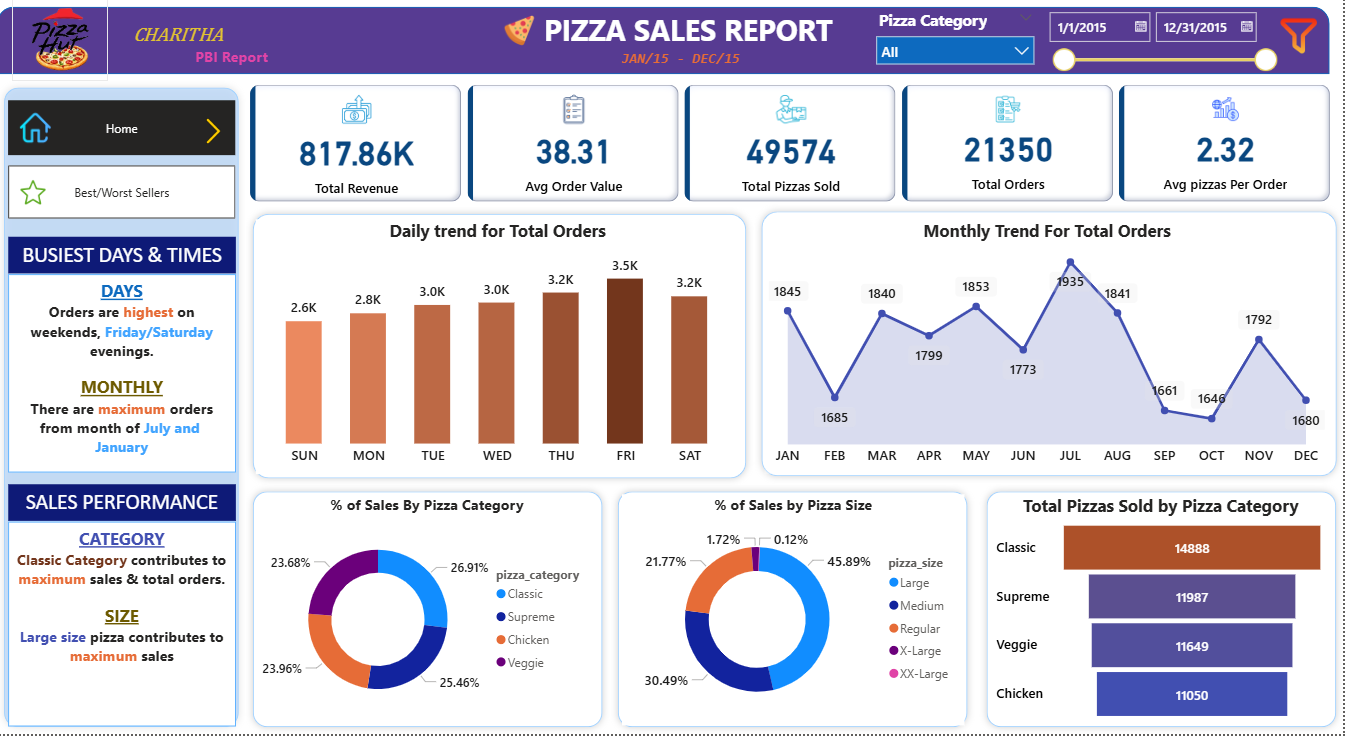

The dashboard page shown, as its layout file describes it:
{"tool":"powerbi","page":{"name":"Home","canvas":[1500,820],"ordinal":0},"visuals":[{"type":"shape","box":[0,91.9,277.1,728.4],"z":0},{"type":"cardVisual","fields":{"Data":["pizza_sales.Total Revenue","pizza_sales.Avg Order Value","pizza_sales.Total Pizzas Sold","pizza_sales.Total Orders","pizza_sales.Avg pizzas Per Order"]},"box":[277.1,91.9,1217.2,140.7],"z":1000},{"type":"shape","box":[0,9.7,1484.6,75.2],"z":2000},{"type":"textbox","box":[604.4,8.4,384.4,59.9],"z":3000},{"type":"textbox","box":[690.8,52.9,153.2,32],"z":4000},{"type":"image","box":[559.9,12.5,44.6,47.4],"z":5000},{"type":"shape","box":[277.1,232.6,565.4,310.6],"z":6000},{"type":"columnChart","title":"Daily trend for Total Orders","fields":{"Category":["pizza_sales.Order Day"],"Y":["pizza_sales.Total Orders"]},"box":[288.3,246.5,539,284.1],"z":7000},{"type":"shape","box":[843.5,230.4,656.5,310.9],"z":8000},{"type":"areaChart","title":"Monthly Trend For Total Orders","fields":{"Category":["pizza_sales.Order Month"],"Y":["pizza_sales.Total Orders"]},"box":[855.1,246.5,629.5,284.1],"z":9000},{"type":"shape","box":[277.1,541.7,405.3,278.5],"z":10000},{"type":"shape","box":[683.8,541.7,405.3,278.5],"z":11000},{"type":"shape","box":[1094.6,541.5,405.3,278.5],"z":12000},{"type":"donutChart","title":"% of Sales By Pizza Category","fields":{"Category":["pizza_sales.pizza_category"],"Y":["pizza_sales.Total Revenue"]},"box":[288.3,552.9,381.6,257.6],"z":13000},{"type":"donutChart","title":"% of Sales by Pizza Size","fields":{"Y":["pizza_sales.Total Revenue"],"Category":["pizza_sales.pizza_size"]},"box":[696.3,552.9,381.6,257.6],"z":14000},{"type":"funnel","title":"Total Pizzas Sold by Pizza Category","fields":{"Category":["pizza_sales.pizza_category"],"Y":["pizza_sales.Total Pizzas Sold"]},"box":[1108.6,552.9,376,257.6],"z":15000},{"type":"textbox","box":[12.2,266.7,253.3,41.1],"z":16000},{"type":"textbox","box":[12.2,307.8,253.3,221.1],"z":17000},{"type":"textbox","box":[12.2,542.2,253.3,41.1],"z":18000},{"type":"textbox","box":[12.2,583.3,253.3,227.8],"z":19000},{"type":"slicer","fields":{"Values":["pizza_sales.order_date"]},"box":[1160.1,5.6,274.4,79.4],"z":20000},{"type":"slicer","fields":{"Values":["pizza_sales.pizza_category"]},"box":[969.3,8.4,196.4,69.6],"z":21000},{"type":"pageNavigator","box":[12.5,186.6,253.5,59.9],"z":22000},{"type":"pageNavigator","box":[12.5,114.2,253.5,61.3],"z":23000},{"type":"image","box":[215.9,129.5,50.1,37.6],"z":24000},{"type":"image","box":[12.5,197.8,55.7,37.6],"z":25000},{"type":"image","box":[16.7,122.6,51.5,44.6],"z":26000},{"type":"image","box":[1416.3,8.4,68.2,66.8],"z":27000},{"type":"image","box":[16.7,0,107.2,91.9],"z":29001},{"type":"textbox","box":[123.9,25.1,154.6,40.4],"z":29002},{"type":"textbox","box":[215.9,48.7,103.1,40.4],"z":29003}]}

Visuals, with their boxes in screenshot pixels (x1, y1, x2, y2), scaled from the page's 1500x820 canvas onto the 1347x737 screenshot:
shape: x1=0 y1=83 x2=249 y2=736
cardVisual - pizza_sales.Total Revenue x pizza_sales.Avg Order Value: x1=249 y1=83 x2=1342 y2=209
shape: x1=0 y1=9 x2=1333 y2=76
textbox: x1=543 y1=8 x2=888 y2=61
textbox: x1=620 y1=48 x2=758 y2=76
image: x1=503 y1=11 x2=543 y2=54
shape: x1=249 y1=209 x2=757 y2=488
"Daily trend for Total Orders" columnChart: x1=259 y1=222 x2=743 y2=477
shape: x1=757 y1=207 x2=1346 y2=487
"Monthly Trend For Total Orders" areaChart: x1=768 y1=222 x2=1333 y2=477
shape: x1=249 y1=487 x2=613 y2=736
shape: x1=614 y1=487 x2=978 y2=736
shape: x1=983 y1=487 x2=1346 y2=736
"% of Sales By Pizza Category" donutChart: x1=259 y1=497 x2=602 y2=728
"% of Sales by Pizza Size" donutChart: x1=625 y1=497 x2=968 y2=728
"Total Pizzas Sold by Pizza Category" funnel: x1=996 y1=497 x2=1333 y2=728
textbox: x1=11 y1=240 x2=238 y2=277
textbox: x1=11 y1=277 x2=238 y2=475
textbox: x1=11 y1=487 x2=238 y2=524
textbox: x1=11 y1=524 x2=238 y2=729
slicer - pizza_sales.order_date: x1=1042 y1=5 x2=1288 y2=76
slicer - pizza_sales.pizza_category: x1=870 y1=8 x2=1047 y2=70
pageNavigator: x1=11 y1=168 x2=239 y2=222
pageNavigator: x1=11 y1=103 x2=239 y2=158
image: x1=194 y1=116 x2=239 y2=150
image: x1=11 y1=178 x2=61 y2=212
image: x1=15 y1=110 x2=61 y2=150
image: x1=1272 y1=8 x2=1333 y2=68
image: x1=15 y1=0 x2=111 y2=83
textbox: x1=111 y1=23 x2=250 y2=59
textbox: x1=194 y1=44 x2=286 y2=80
